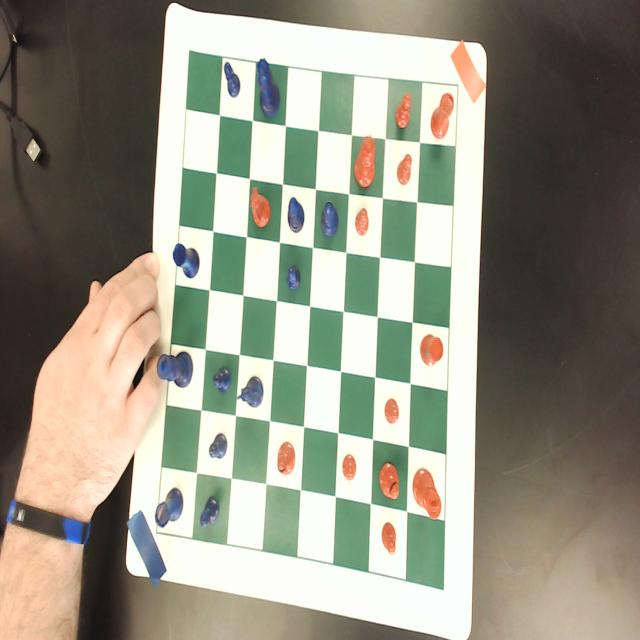B: (287, 196, 305, 234), (321, 201, 338, 239)
K: (157, 351, 193, 389)
N: (236, 374, 264, 408)
P: (200, 494, 220, 532), (224, 61, 240, 97), (208, 432, 228, 460), (212, 366, 231, 394), (287, 264, 301, 291)
Q: (256, 57, 280, 116)
R: (154, 486, 184, 528), (172, 240, 199, 278)
b: (378, 462, 399, 500), (277, 440, 296, 480)
cb: (157, 51, 458, 589)
k: (412, 467, 442, 521)
n: (250, 186, 271, 228)
p: (394, 93, 412, 130), (381, 521, 397, 556), (396, 154, 412, 186), (384, 397, 399, 424), (342, 453, 356, 481), (354, 208, 368, 236)
q: (354, 136, 376, 188)
r: (430, 92, 454, 139), (420, 334, 444, 368)
